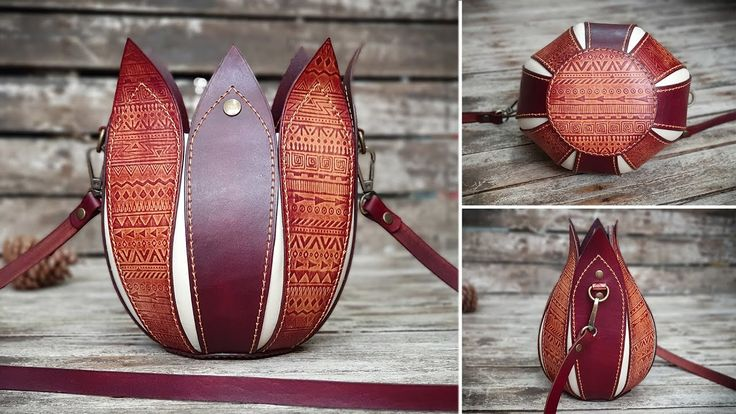cuero: (1, 22, 696, 398)
